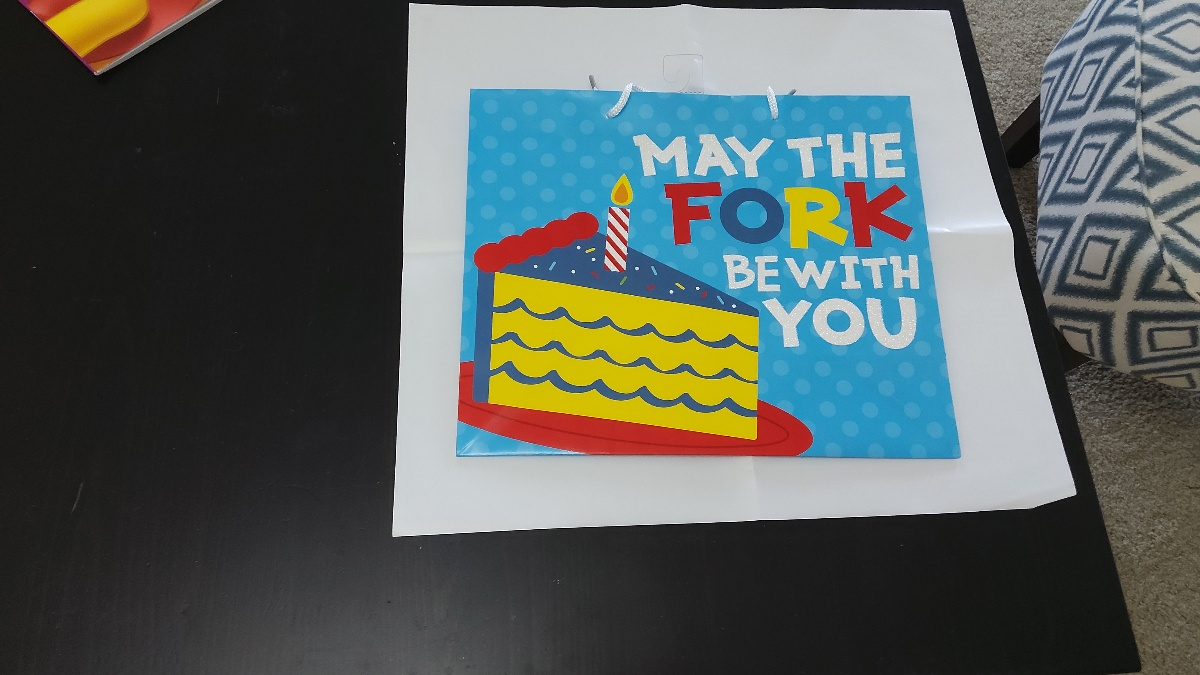paper_bag: (471, 90, 928, 464)
